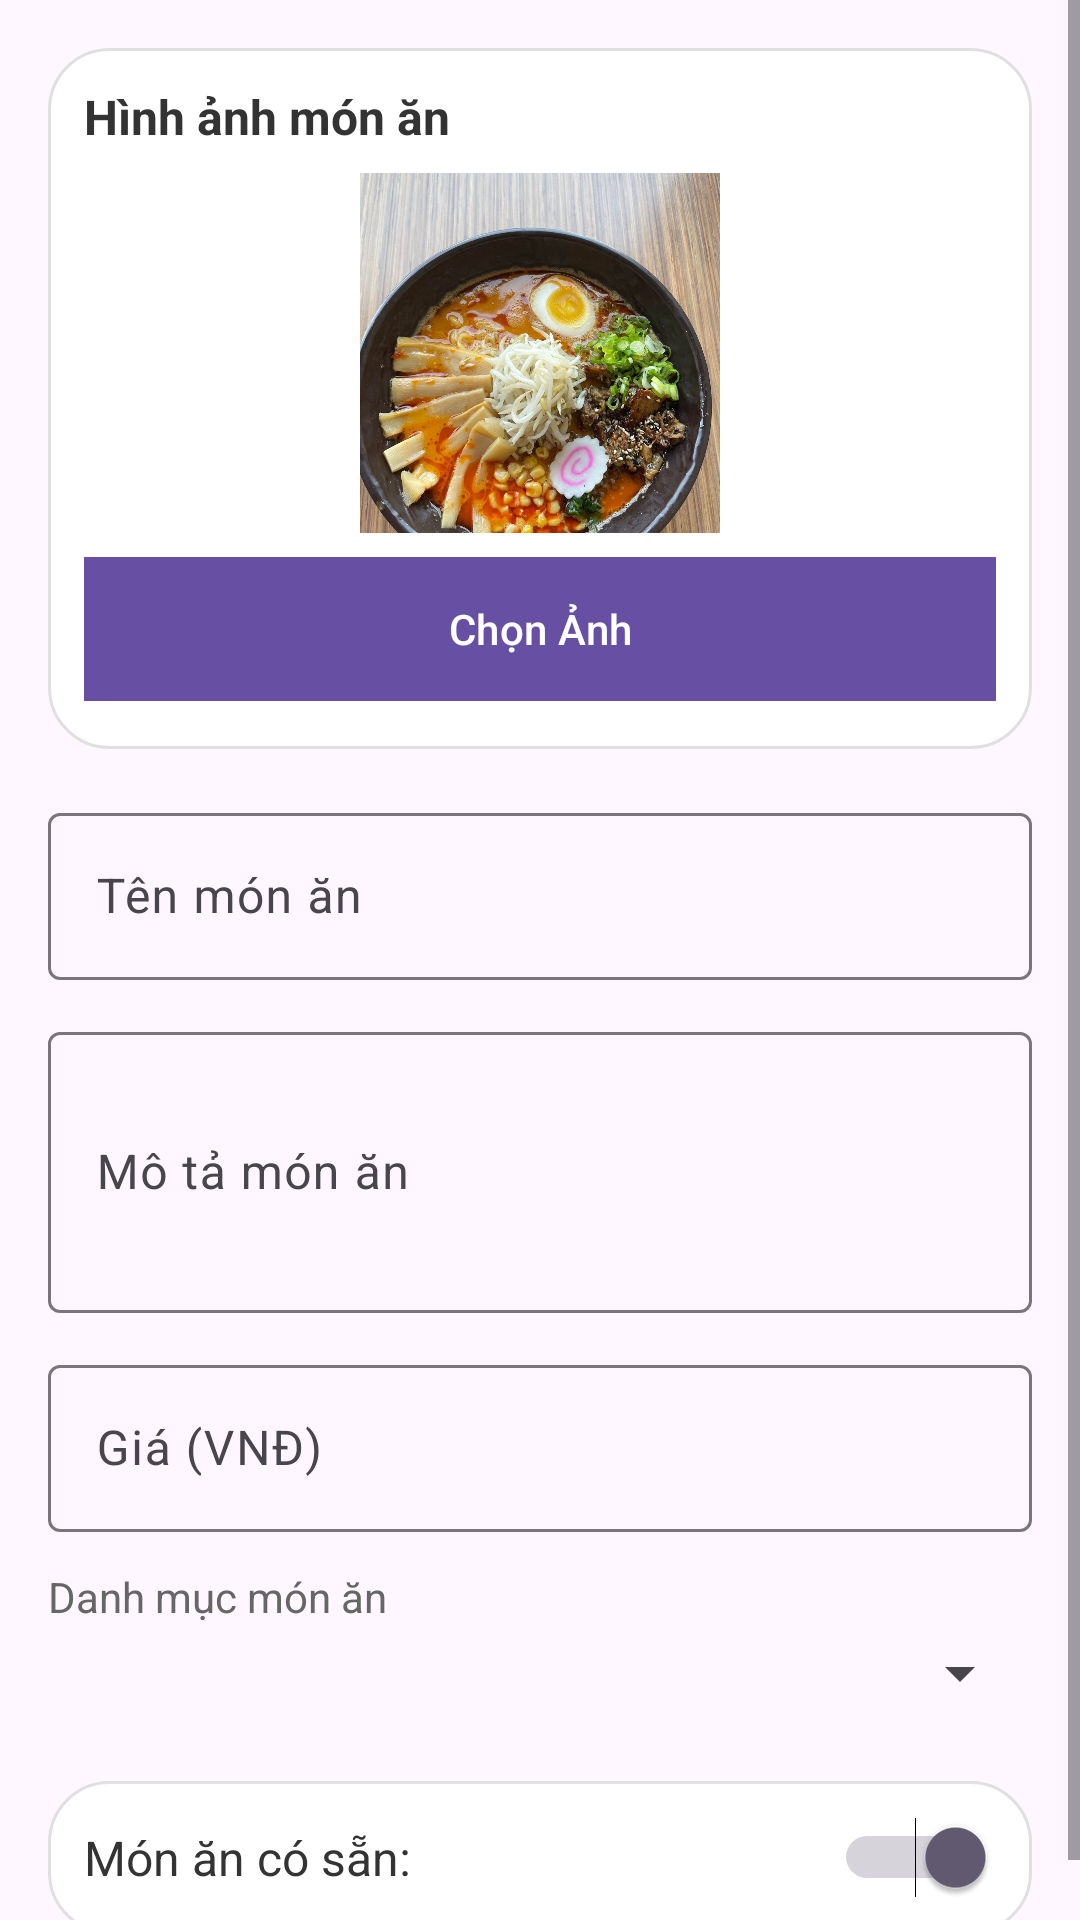

Icons on this 1080 x 1920 Android screen, each with its box as (x1, y1, x2, y2):
ramen: (360, 173, 720, 533)
